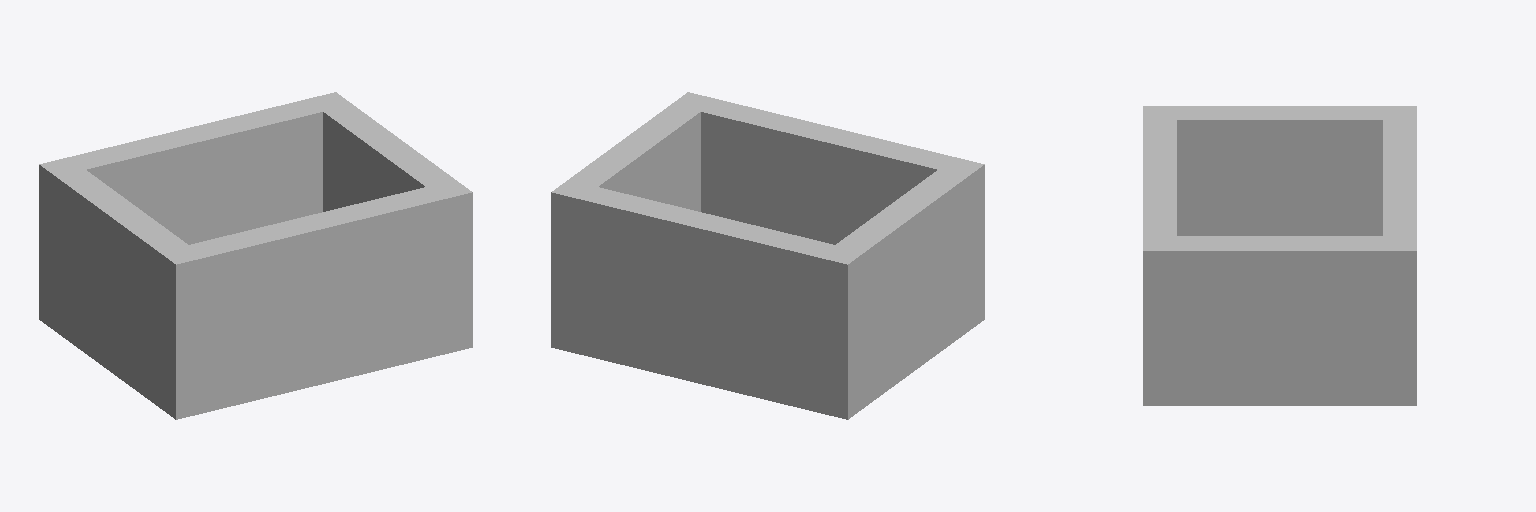
File: minecart.obj
3 renders of one model, left to right at view 1: azimuth 30°, elevation 25°; view 2: azimuth 150°, elevation 25°; view 3: azimuth 270°, elevation 25°, orthographic.
Visible parts, largest first — view 1: left, front, right, bottom, back; view 2: right, front, left, bottom, back; view 3: back, front, bottom, right, left.
Part boxes in pixels (bbox=[...]): left: bbox=[189, 187, 442, 381]; front: bbox=[39, 157, 205, 388]; right: bbox=[69, 99, 322, 244]; bottom: bbox=[39, 289, 472, 419]; back: bbox=[307, 92, 472, 323]; right: bbox=[581, 187, 834, 381]; front: bbox=[818, 157, 984, 388]; left: bbox=[701, 99, 954, 244]; bottom: bbox=[551, 289, 984, 419]; back: bbox=[551, 92, 716, 323]; back: bbox=[1143, 236, 1416, 374]; front: bbox=[1143, 106, 1416, 235]; bottom: bbox=[1143, 375, 1416, 405]; right: bbox=[1383, 120, 1416, 235]; left: bbox=[1143, 120, 1176, 235].
Bounding box in the file's own units: 1.25 × 0.625 × 1.